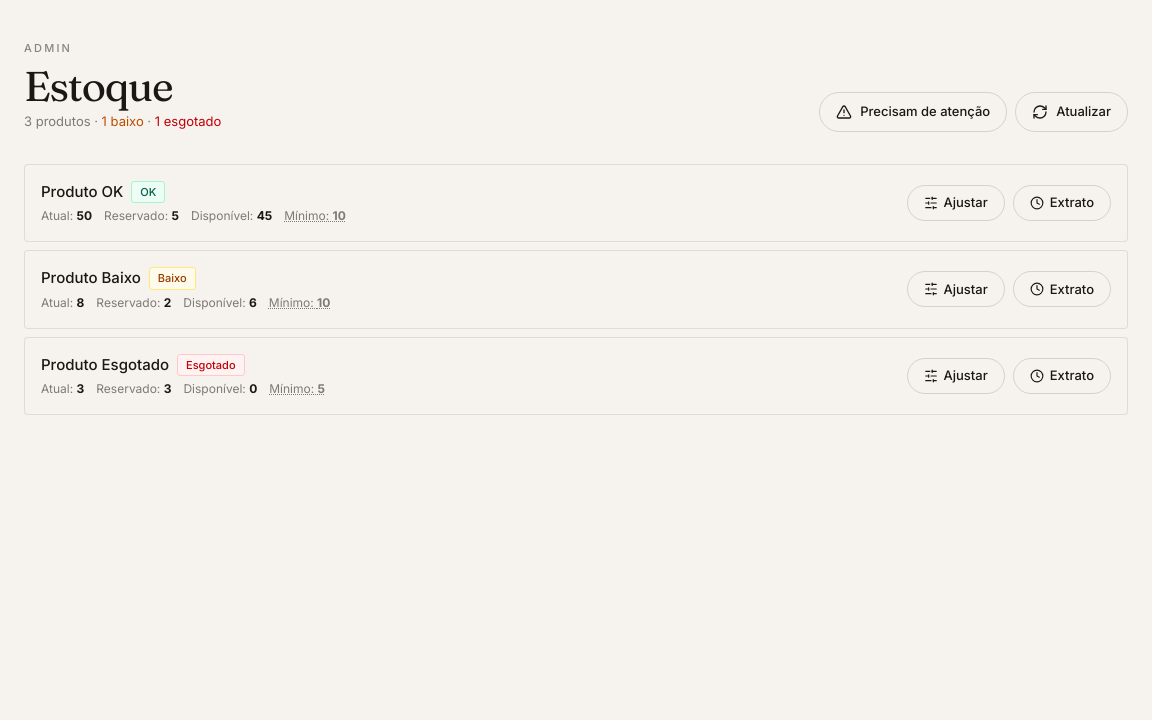
it: StockManager — A3: fechar/reabrir o extrato não trava em loading › abrir extrato -> fechar -> reabrir o MESMO produto recarrega (não fica em "Carregando…" eterno)
The width and height of the screenshot is (1152, 720).
Note: Abre o extrato do primeiro produto e vê os itens.
Click the button "Extrato" in the row of "45" at point(1062, 203), box [1013, 185, 1111, 221]
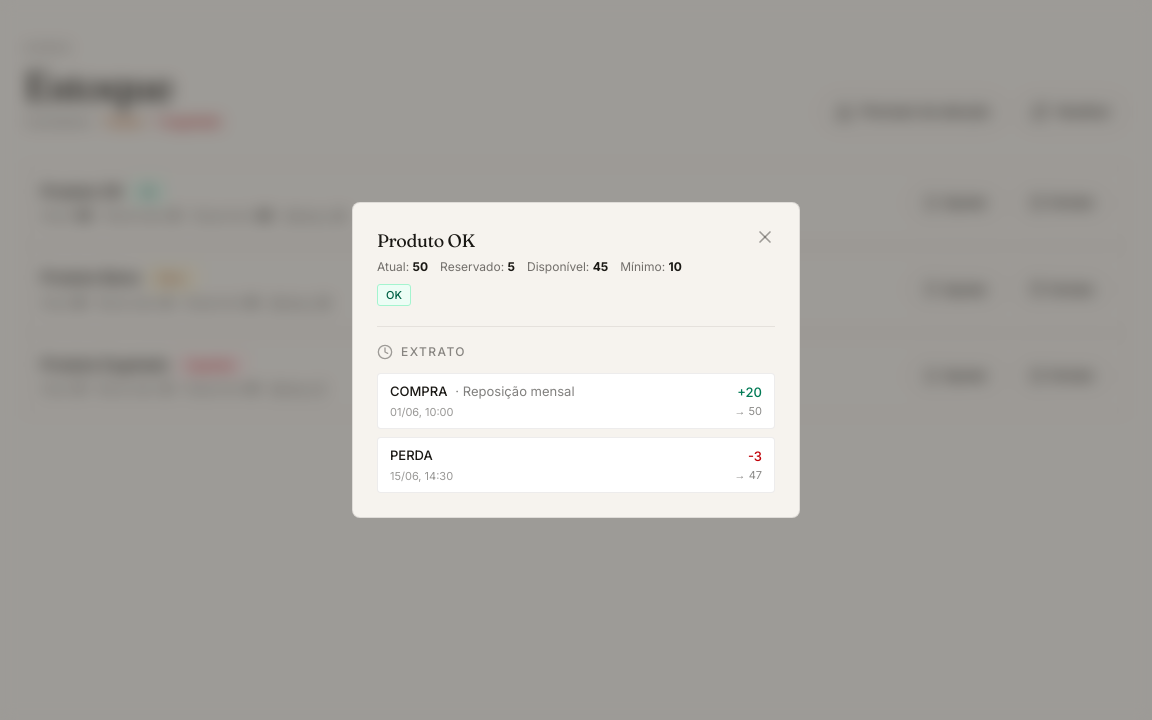
Now the text "COMPRA" is shown, box [390, 383, 447, 399]
Note: Fecha o drawer.
Click the button named "Fechar" at point(765, 237), box [755, 227, 775, 247]
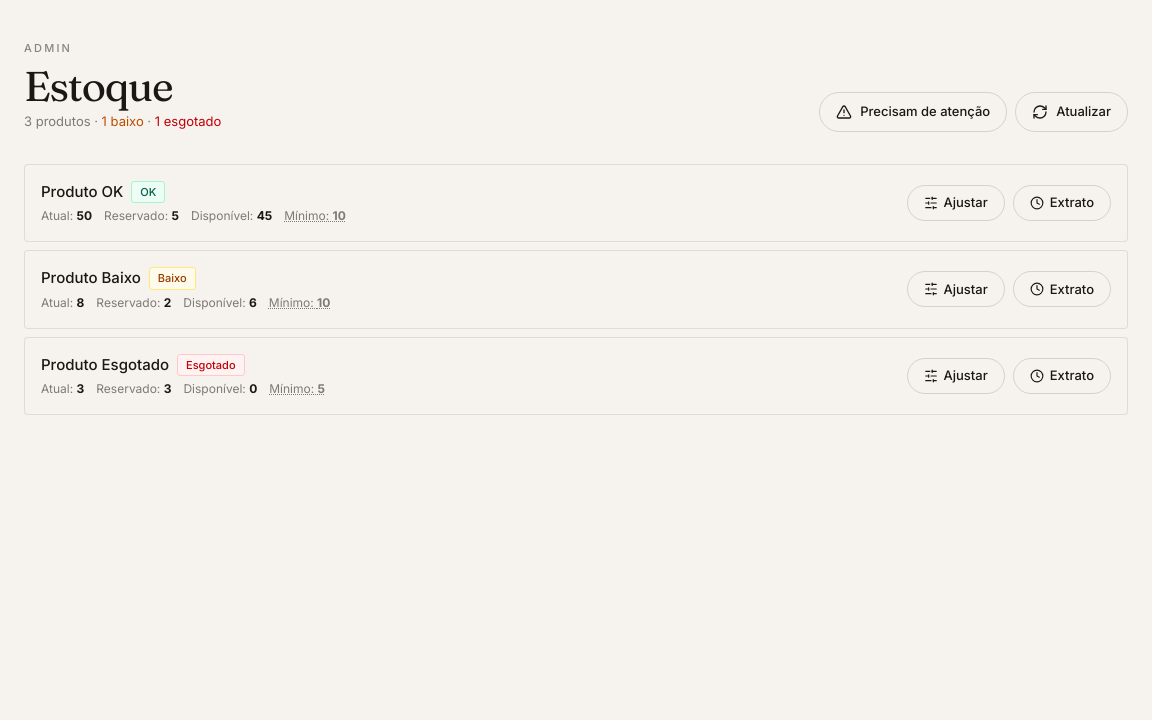
Now the text "COMPRA" is gone
Click the button "Extrato" in the row of "45" at point(1062, 203), box [1013, 185, 1111, 221]
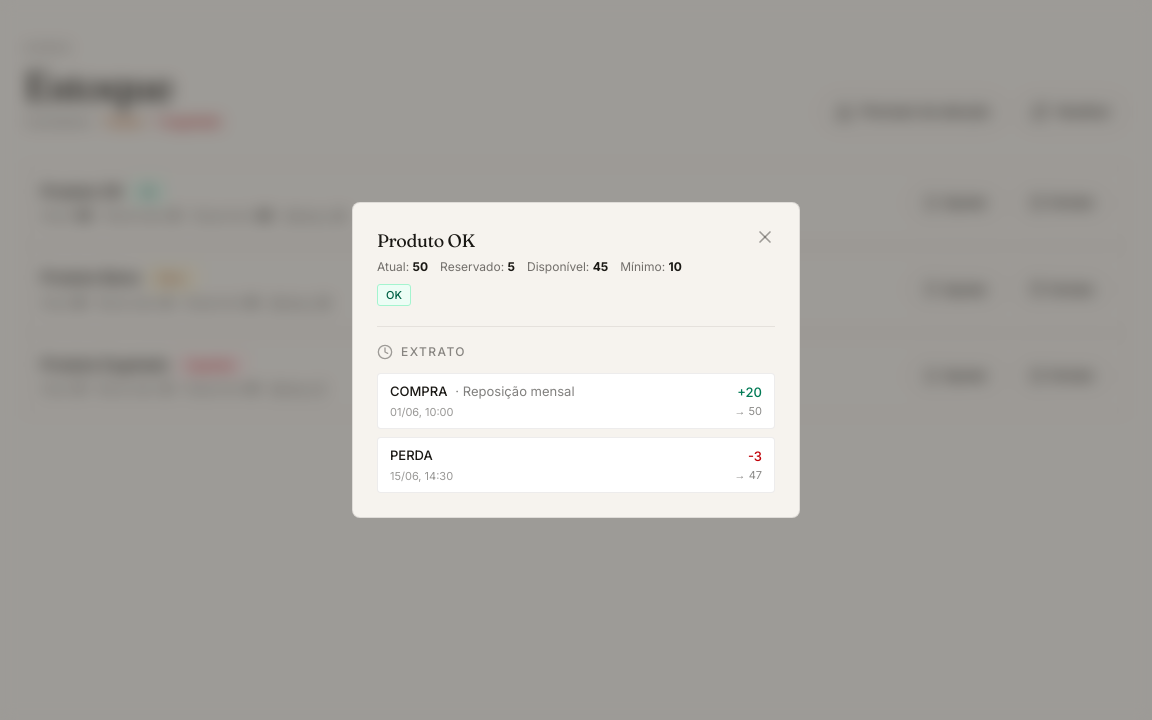
Now the text "COMPRA" is shown, box [390, 383, 447, 399]
